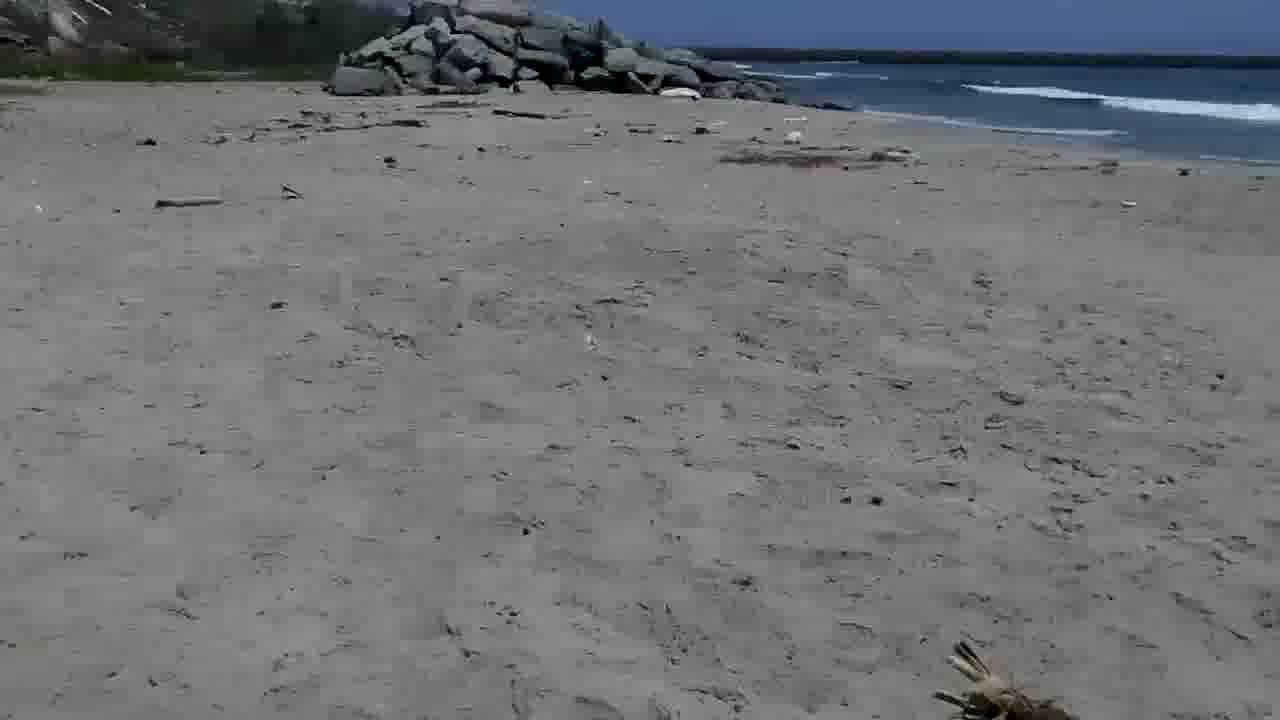obj: (928, 638, 1076, 716), (721, 140, 924, 176), (152, 196, 228, 211), (782, 113, 811, 144), (276, 180, 300, 200)
sand/background: (0, 0, 1279, 163)
